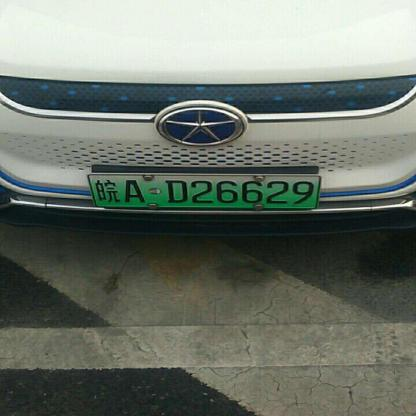lp: (87, 174, 321, 208)
